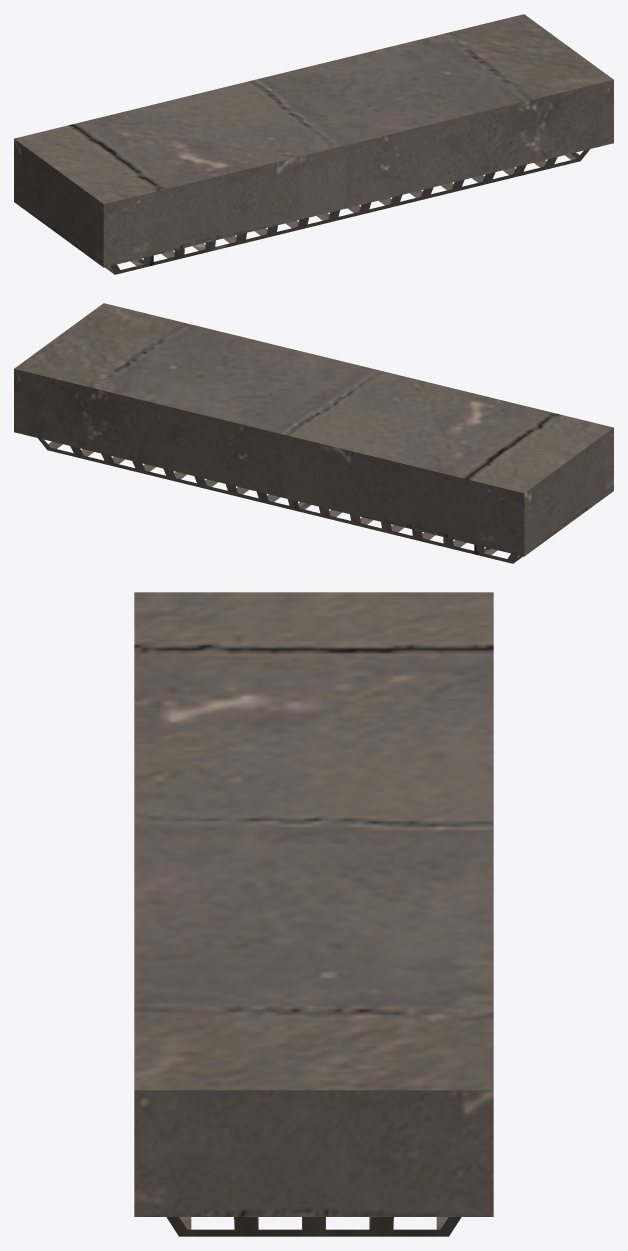
Rendered from CouloirTouffu_Block_07.fbx.
3 views of the same model, one above another, from view 1: azimuth 30°, elevation 25°; view 2: azimuth 150°, elevation 25°; view 3: azimuth 270°, elevation 25° (orthographic). The views are drawn at different scales.
Visible parts, largest first — view 1: CouloirTouffu_Block_07; view 2: CouloirTouffu_Block_07; view 3: CouloirTouffu_Block_07.
Part boxes in pixels (x1=…): CouloirTouffu_Block_07: x1=14, y1=14, x2=613, y2=274; CouloirTouffu_Block_07: x1=14, y1=303, x2=613, y2=563; CouloirTouffu_Block_07: x1=134, y1=592, x2=493, y2=1236.
Size of the model in its own units: 279 by 44.03 by 85.12.
